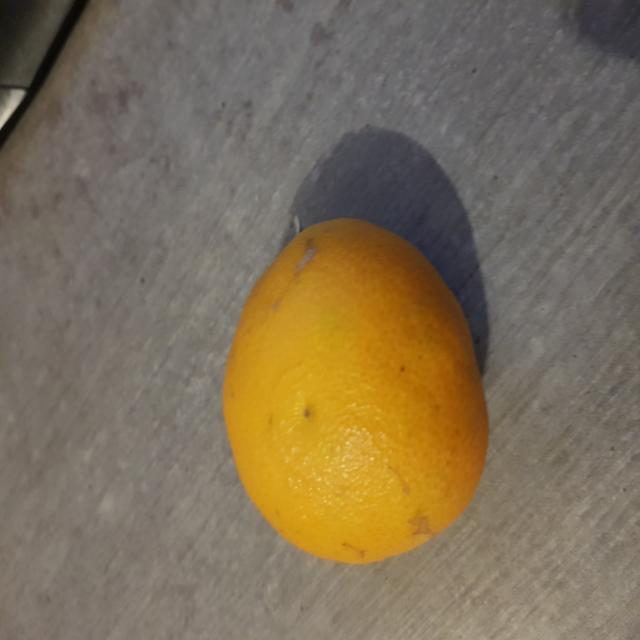Orange: (221, 218, 490, 568)
